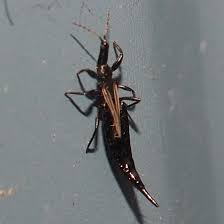Phlaeothripidae: (65, 7, 161, 208)
